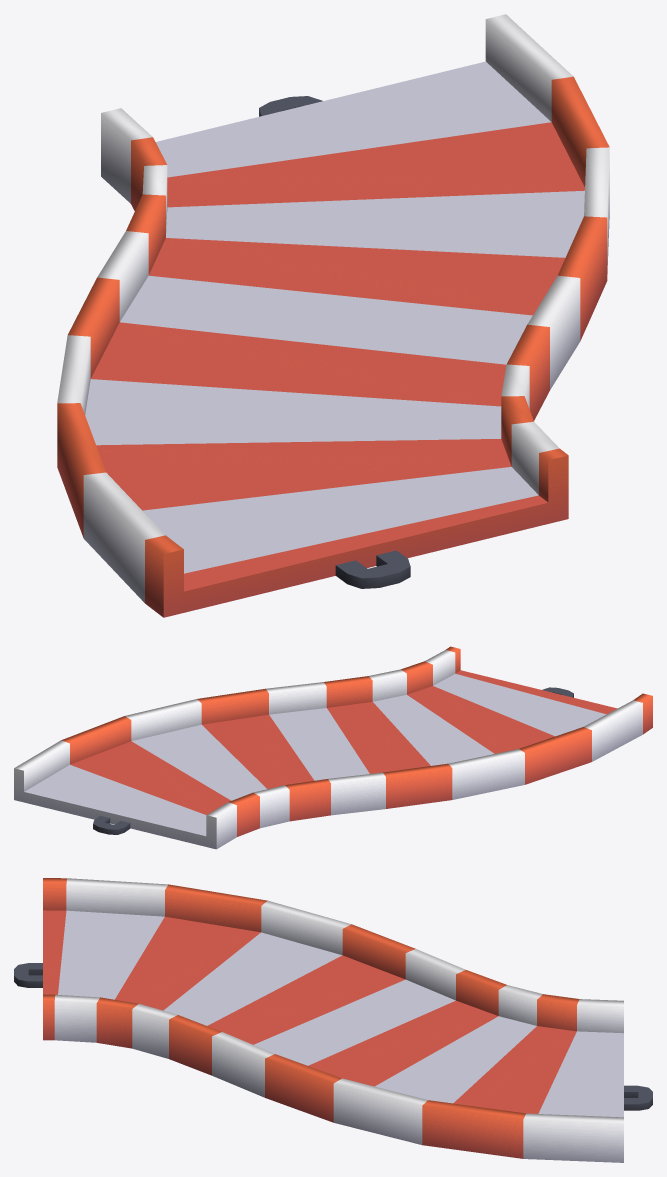
Rendered from banked-track.glb.
3 views of the same model, one above another, from view 1: azimuth 30°, elevation 25°; view 2: azimuth 150°, elevation 25°; view 3: azimuth 270°, elevation 25° (orthographic). The views are drawn at different scales.
Visible parts, largest first — view 1: track-striped-wide-curve; view 2: track-striped-wide-curve; view 3: track-striped-wide-curve.
Part boxes in pixels (x1,y1,x2,y2): track-striped-wide-curve: [57, 14, 609, 617]; track-striped-wide-curve: [14, 646, 652, 849]; track-striped-wide-curve: [14, 878, 652, 1162].
Size of the model in its own units: 4 by 0.3 by 4.4.
Materials: 1 (1 with a texture image).
